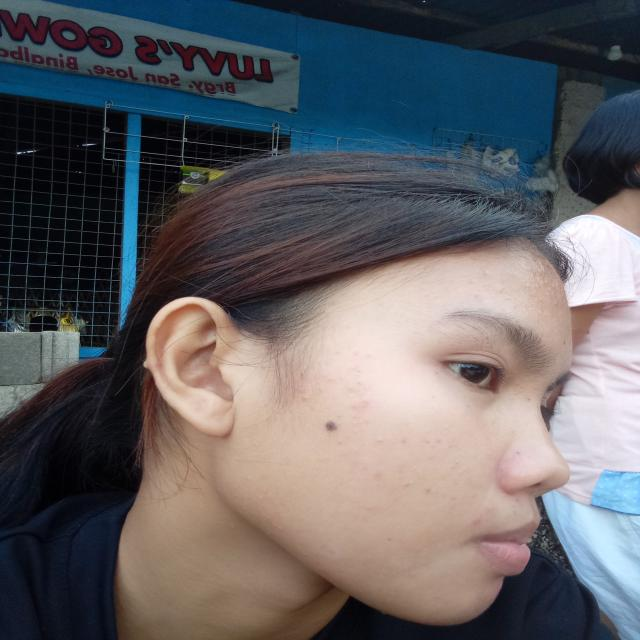Acne: (518, 251, 564, 309), (364, 435, 447, 446), (464, 506, 497, 526), (326, 348, 374, 360), (508, 496, 524, 521), (446, 458, 469, 474), (351, 398, 375, 410), (371, 469, 387, 482)
Blackheads: (352, 367, 365, 389)
